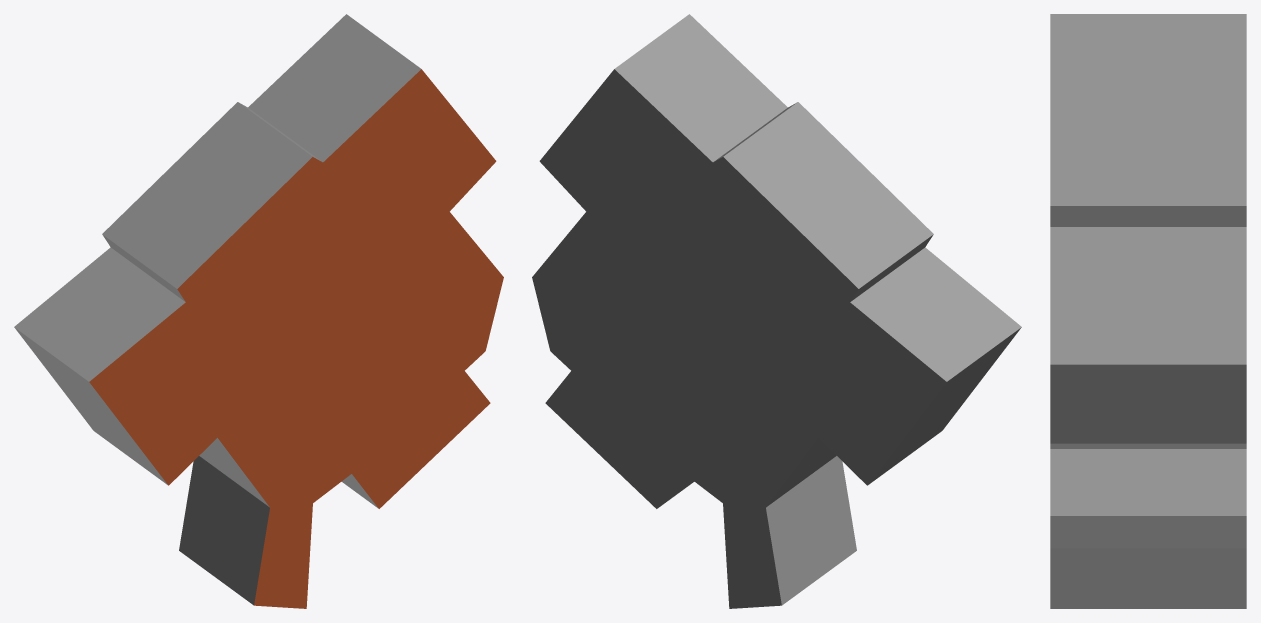
File: construction_1238_assumed_A_Capela_h6m.obj
3 views of the same model, side by side, from view 1: azimuth 30°, elevation 25°; view 2: azimuth 150°, elevation 25°; view 3: azimuth 270°, elevation 25° (orthographic). The views are drawn at different scales.
Parts seen in each view (by area): view 1: construction_1238_assumed_A_Capela; view 2: construction_1238_assumed_A_Capela; view 3: construction_1238_assumed_A_Capela.
Part boxes in pixels (left/top/right/bottom): construction_1238_assumed_A_Capela: left=14, top=14, right=503, bottom=608; construction_1238_assumed_A_Capela: left=532, top=14, right=1021, bottom=608; construction_1238_assumed_A_Capela: left=1050, top=14, right=1246, bottom=608.
Size of the model in its own units: 19.12 by 22.55 by 6.
